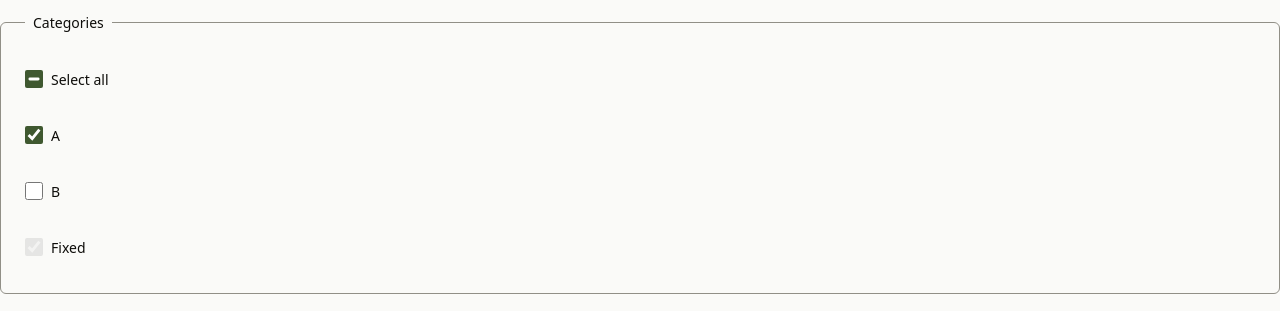
Scenario: shared controls › selects enabled options, preserves disabled selections, and exposes a mixed state
What coordinates should you click on to do the following:
click the checkbox labelled "Select all"
I would click on:
 (34, 79)
Its box is [25,70,43,88].
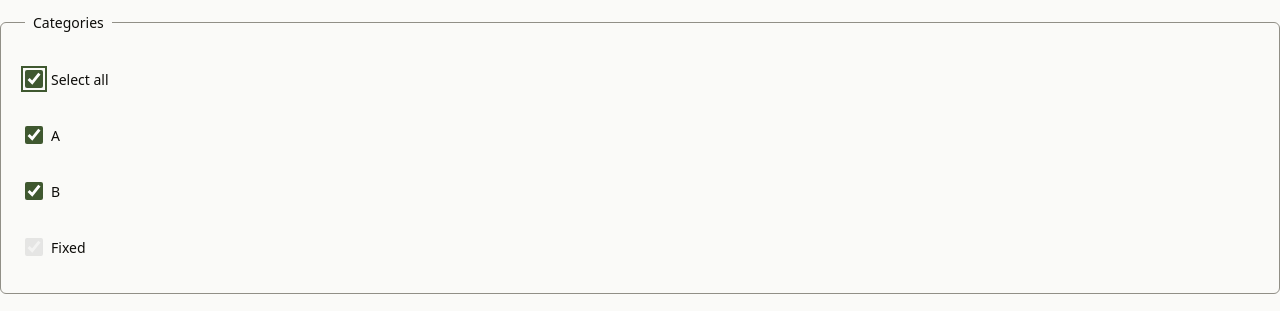
Expected: the checkbox labelled "Select all" is checked
Expected: the checkbox labelled "B" is checked, [25,182,43,200]
What coordinates should you click on to do the following:
click the checkbox labelled "Select all"
I would click on:
 (34, 79)
Its box is [25,70,43,88].
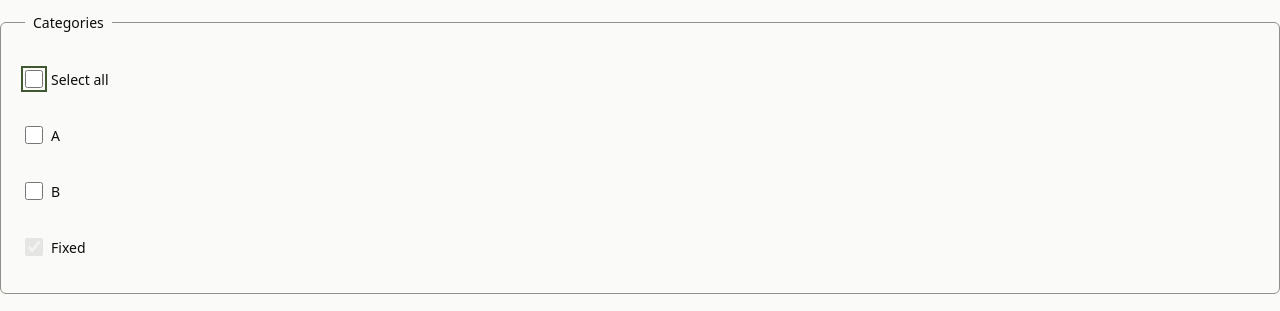
Expected: the checkbox labelled "A" is not checked, [25,126,43,144]
